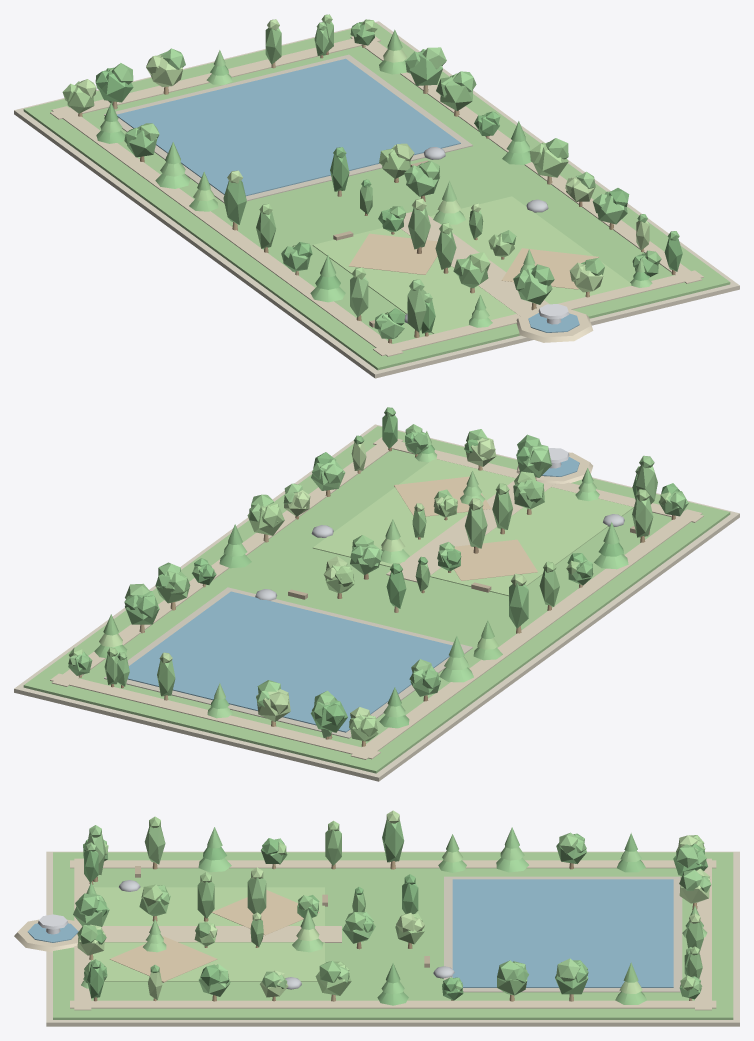
Rendered from num-4-built.glb.
3 renders of one model, top to bottom at view 1: azimuth 30°, elevation 25°; view 2: azimuth 150°, elevation 25°; view 3: azimuth 270°, elevation 25°, orthographic. The views are drawn at different scales.
Size of the model in its own units: 47.6 by 8.11 by 85.4.
